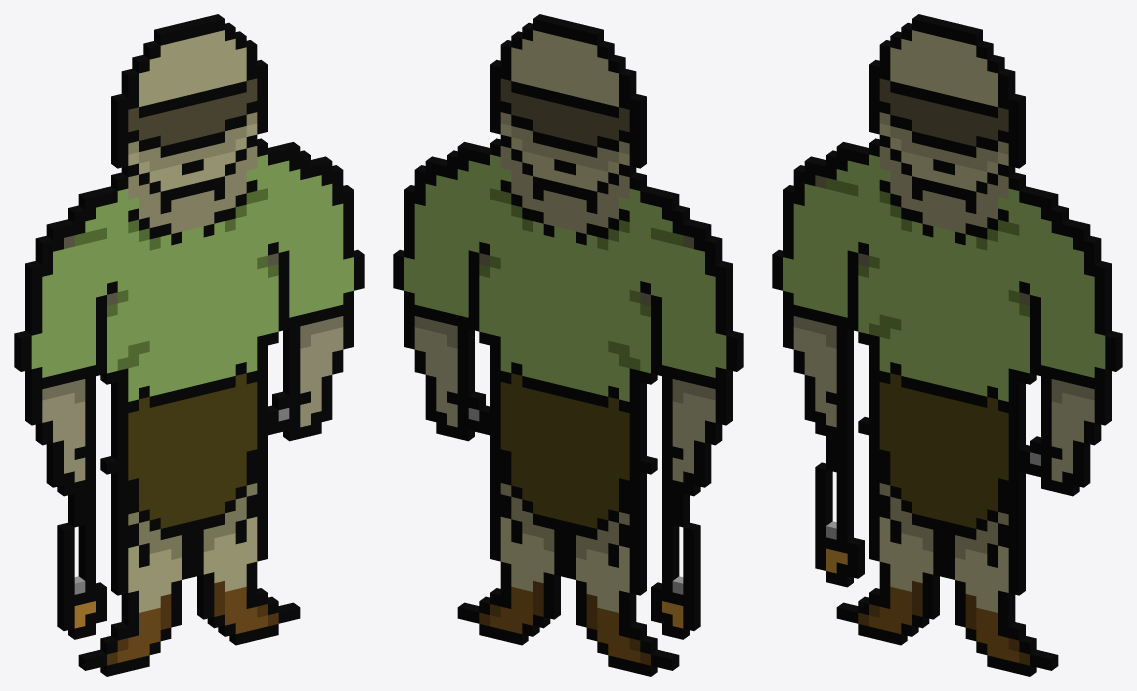
The model's file is Slinger.fbx.
3 renders of one model, left to right at view 1: azimuth 30°, elevation 25°; view 2: azimuth 150°, elevation 25°; view 3: azimuth 330°, elevation 25°, orthographic.
Visible parts, largest first — view 1: Curve.017; view 2: Curve.017; view 3: Curve.017.
Boxes of the visible parts, box(x1,y1,x2,y2) form: Curve.017: box(14, 14, 364, 676); Curve.017: box(393, 14, 743, 676); Curve.017: box(772, 14, 1122, 676).
Size of the model in its own units: 27.09 by 47.4 by 0.9.
